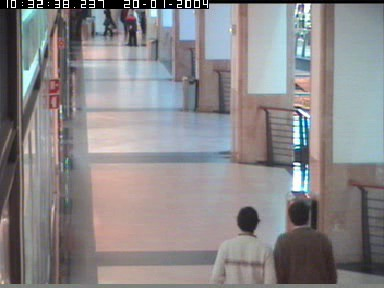person: (271, 200, 337, 284), (209, 206, 276, 283), (124, 9, 137, 46), (103, 10, 117, 40)
